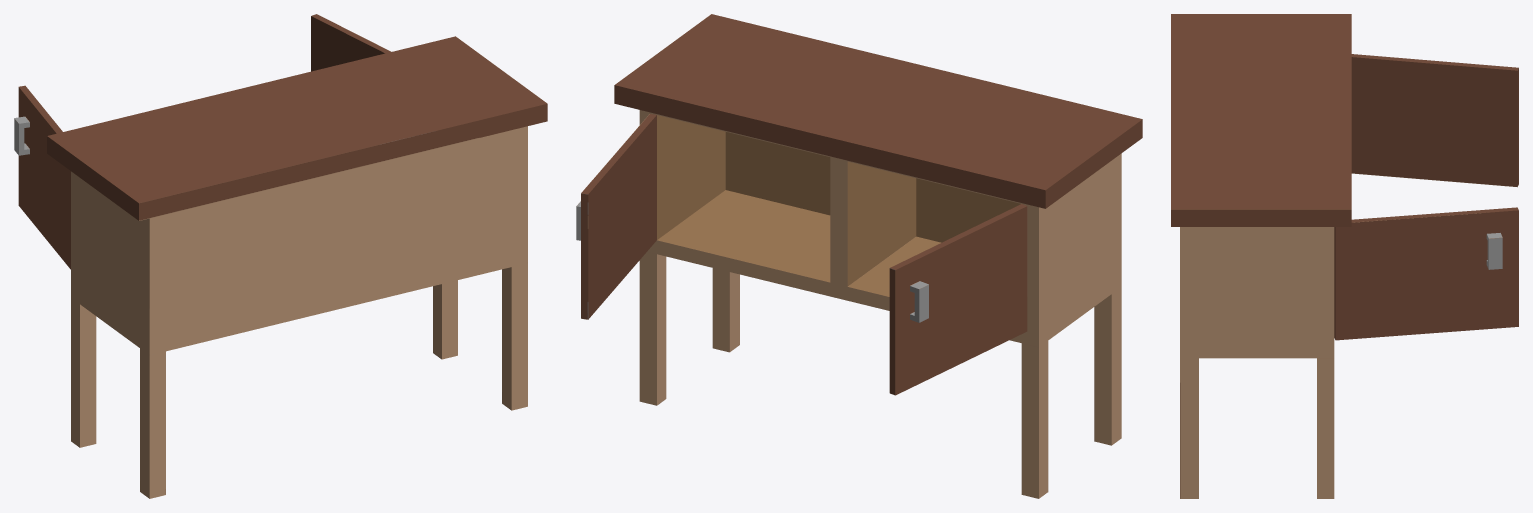
The model's file is cabinet_open.fbx.
3 views of the same model, side by side, from view 1: azimuth 30°, elevation 25°; view 2: azimuth 150°, elevation 25°; view 3: azimuth 270°, elevation 25° (orthographic). The views are drawn at different scales.
Visible parts, largest first — view 1: cabinet_base, left_door, right_door; view 2: cabinet_base, left_door, right_door; view 3: cabinet_base, right_door, left_door.
Part boxes in pixels (x1,y1,x2,y2): cabinet_base: (47, 36, 547, 498); left_door: (14, 85, 70, 269); right_door: (311, 14, 391, 71); cabinet_base: (614, 14, 1142, 498); left_door: (889, 204, 1027, 395); right_door: (576, 114, 656, 319); cabinet_base: (1171, 14, 1351, 498); right_door: (1334, 207, 1518, 340); left_door: (1351, 54, 1518, 187).
Bounding box in the file's own units: 1.82 × 1.29 × 1.37.
